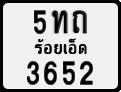letters: (79, 60, 94, 86), (52, 10, 68, 34), (72, 10, 88, 34), (43, 60, 58, 85), (33, 10, 47, 35), (26, 60, 40, 85), (62, 60, 76, 85)
province: (34, 38, 87, 55)
